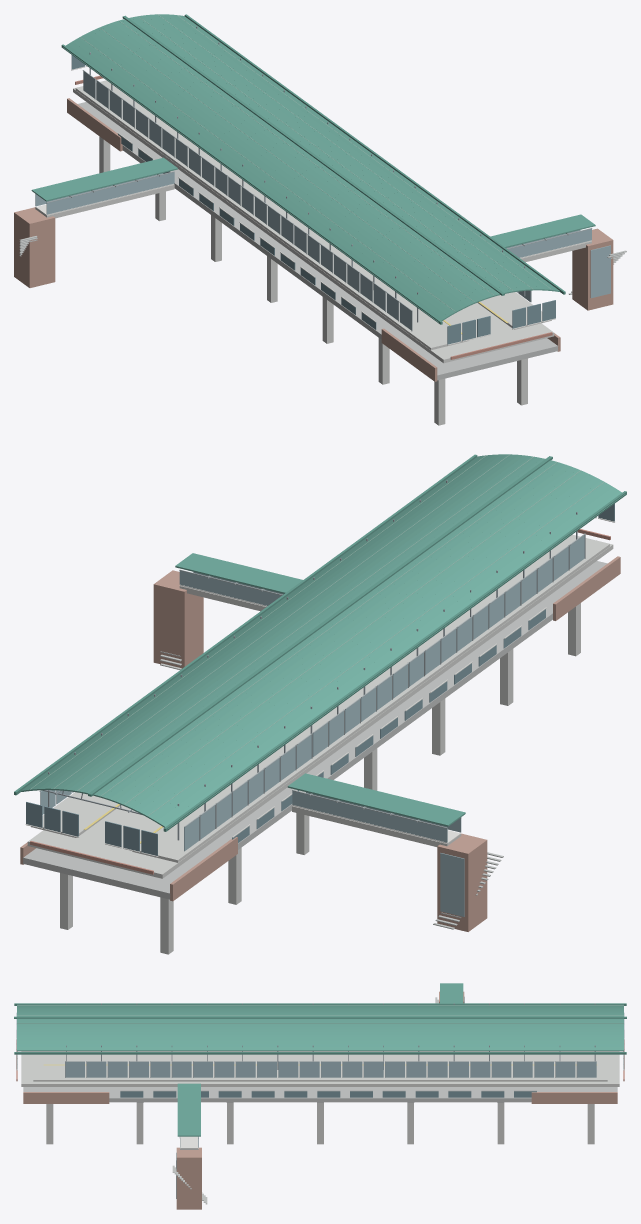
3 views of the same model, one above another, from view 1: azimuth 30°, elevation 25°; view 2: azimuth 150°, elevation 25°; view 3: azimuth 270°, elevation 25° (orthographic). The views are drawn at different scales.
Visible parts, largest first — view 1: MRT6 station 14 concept geometry; view 2: MRT6 station 14 concept geometry; view 3: MRT6 station 14 concept geometry.
Boxes of the visible parts, bbox=[...] form: MRT6 station 14 concept geometry: bbox=[14, 14, 626, 425]; MRT6 station 14 concept geometry: bbox=[14, 454, 626, 954]; MRT6 station 14 concept geometry: bbox=[14, 983, 626, 1209].
Bounding box in the file's own units: 101 × 29.49 × 150.
